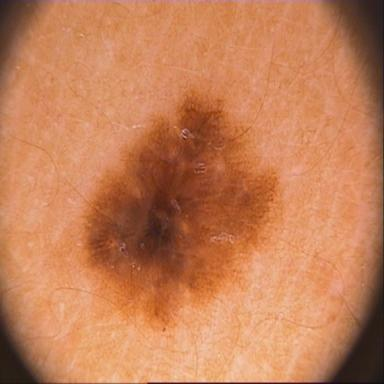nevus: (82, 85, 281, 327)
